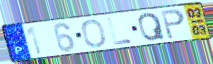1: (26, 27, 43, 55)
6: (52, 21, 78, 53)
L: (106, 17, 133, 46)
O: (81, 18, 108, 49)
P: (159, 7, 186, 41)
Q: (137, 12, 167, 43)
